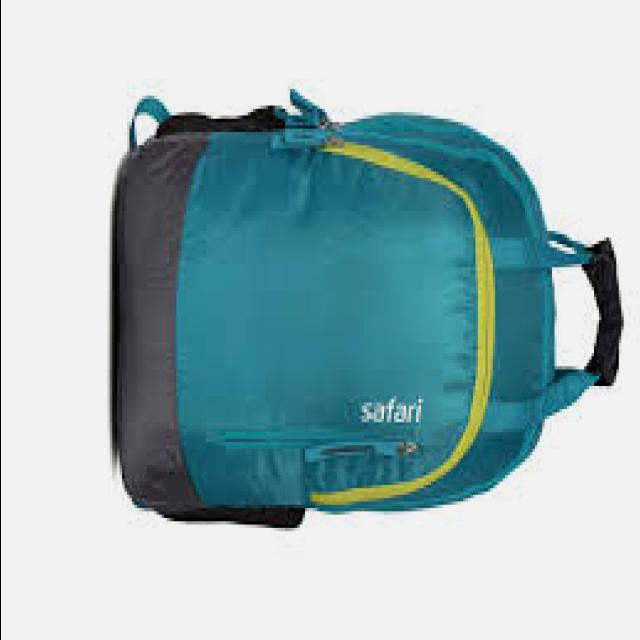backpack: (115, 90, 627, 529)
